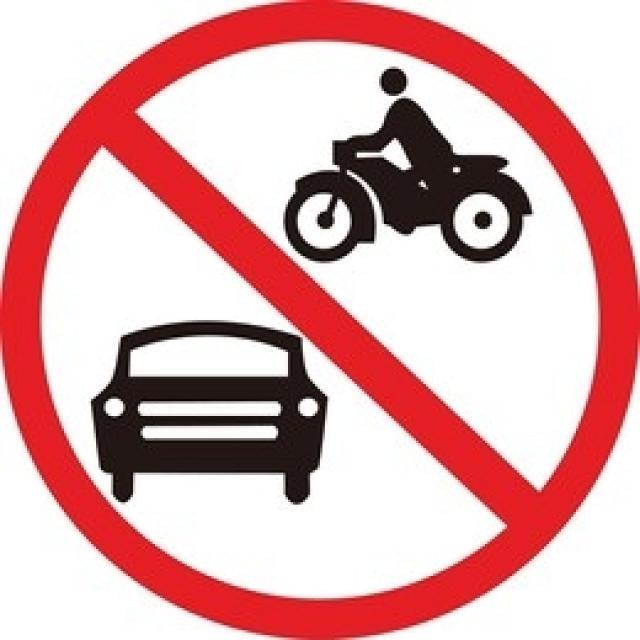all motor vehicle prohibited: (20, 15, 624, 625)
